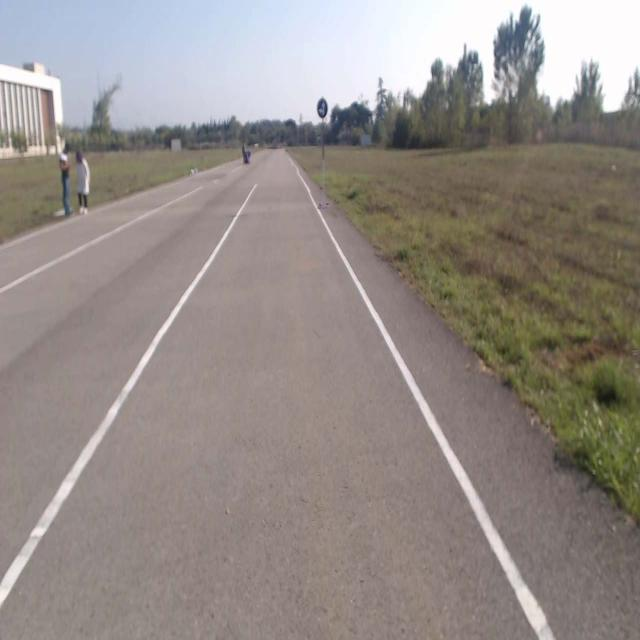ilerisol: (317, 96, 328, 117)
